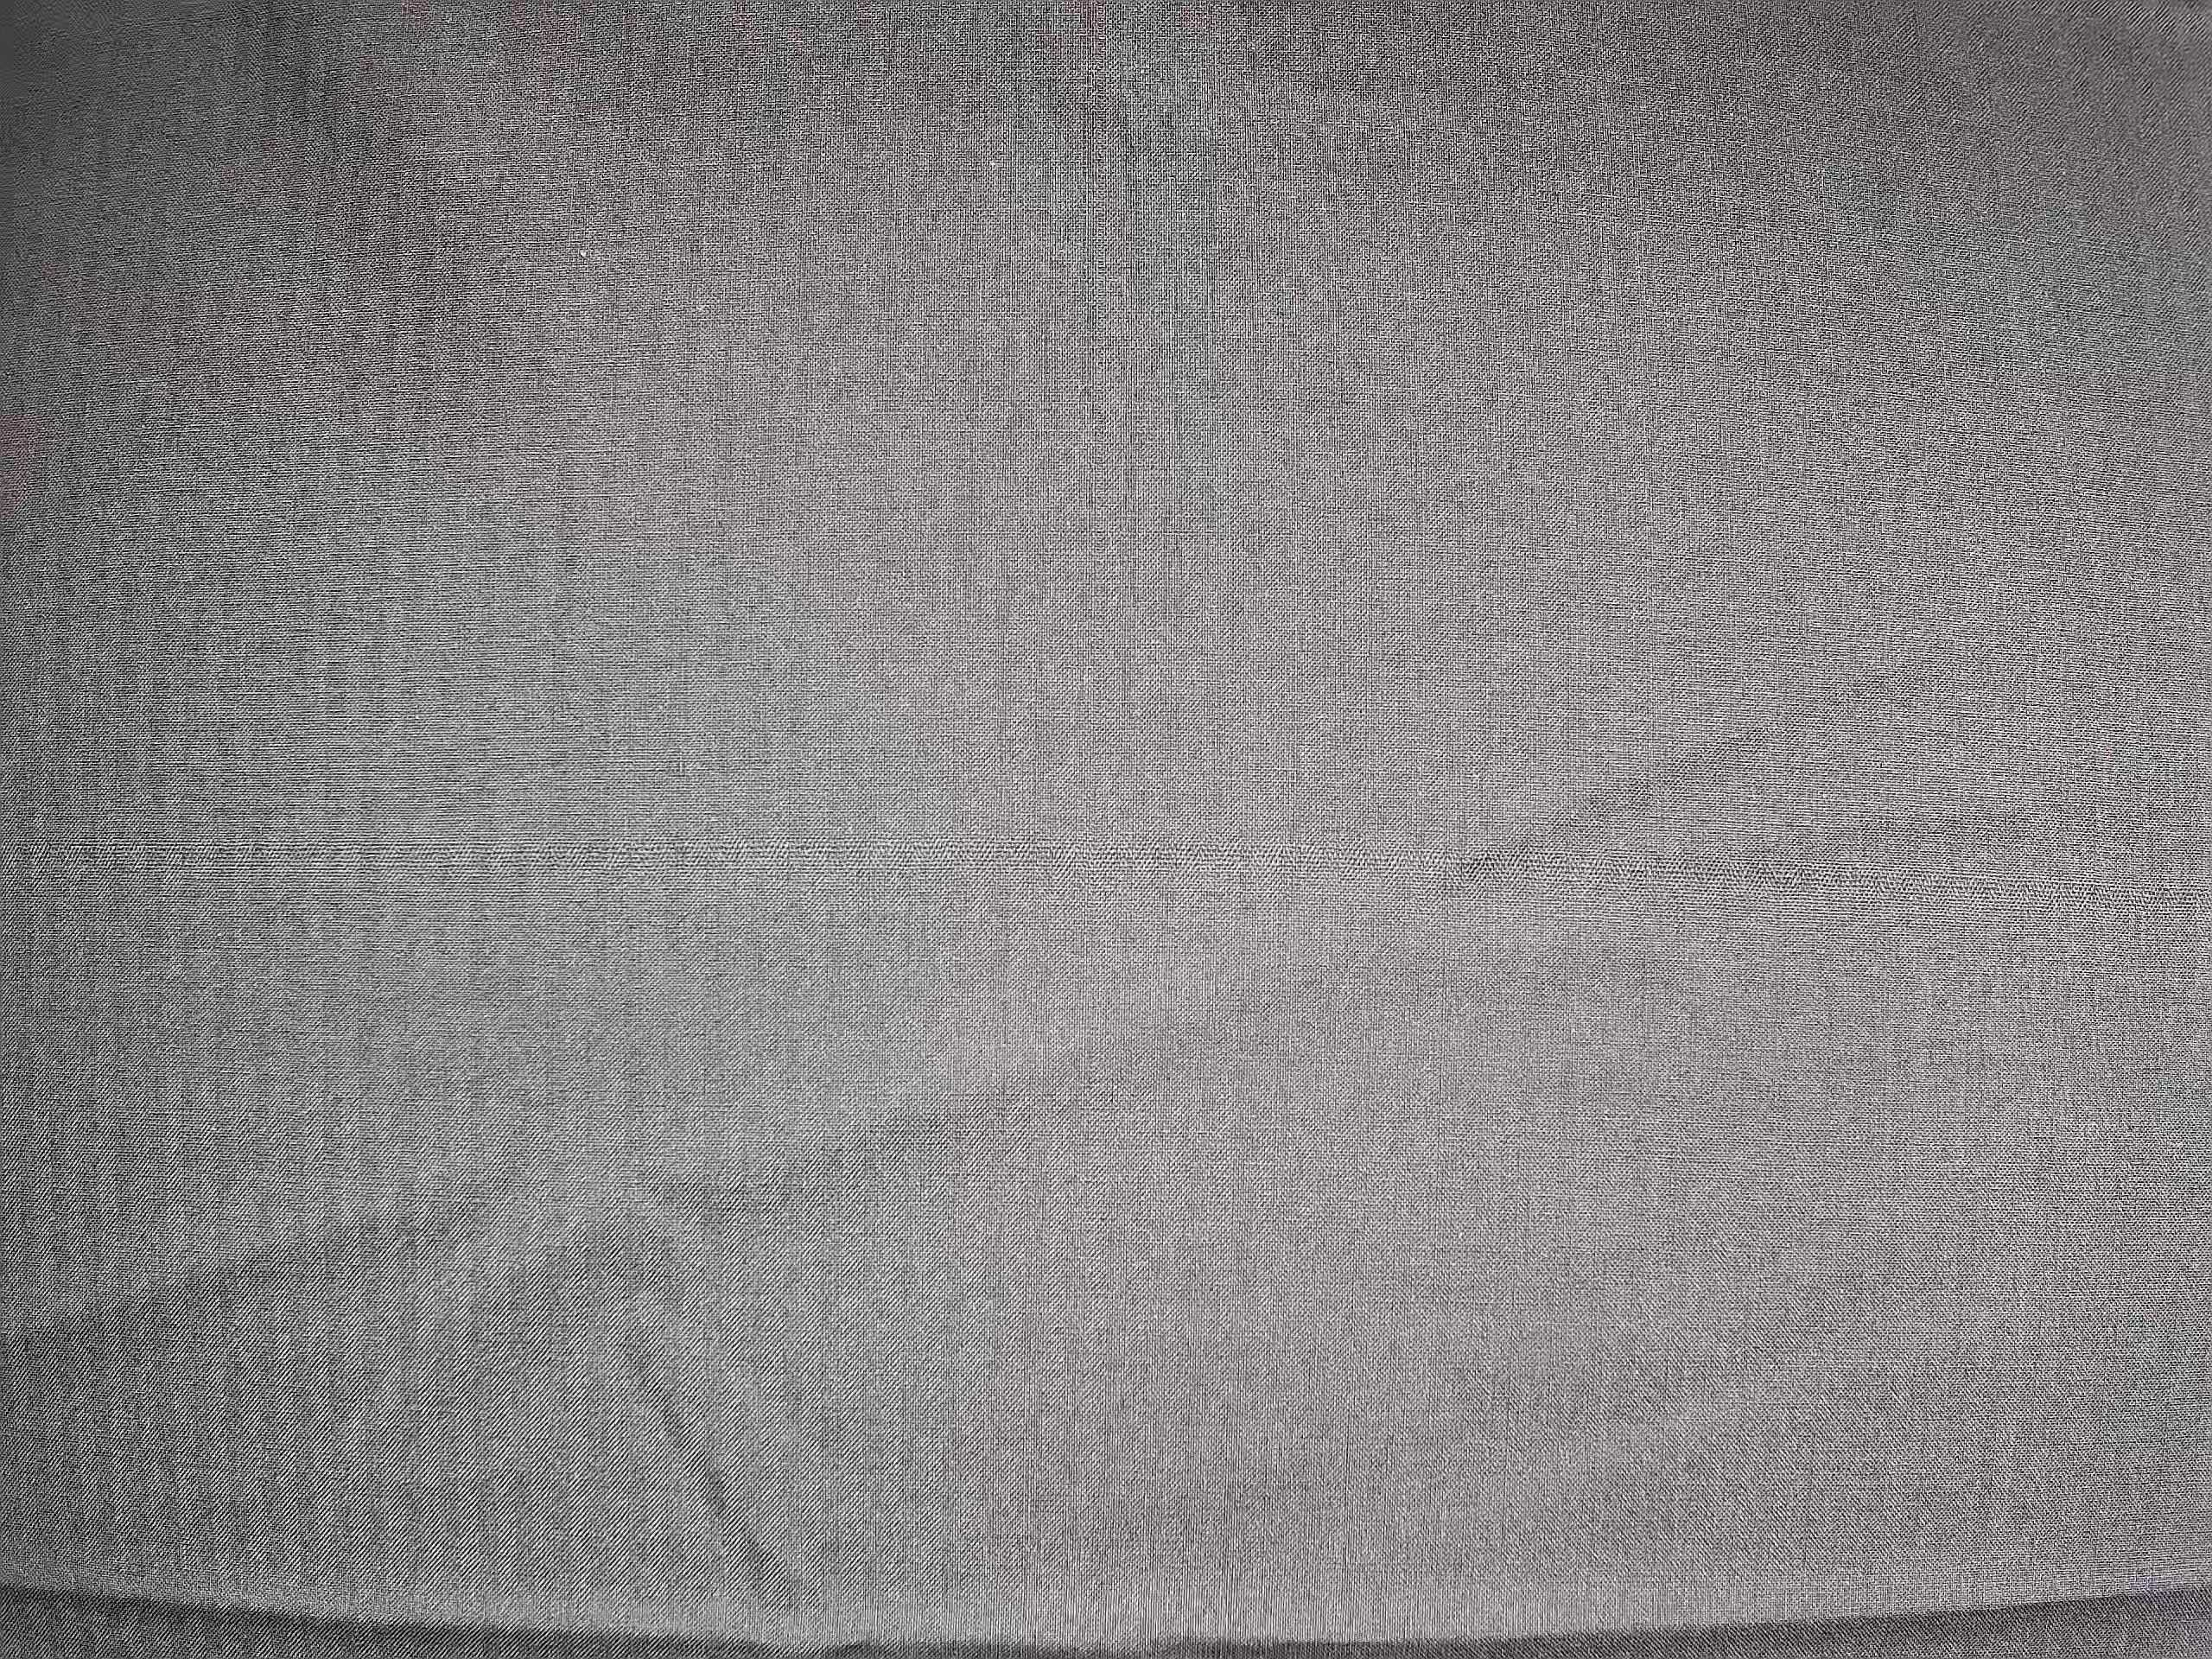lacking-warp: (7, 833, 2203, 922)
